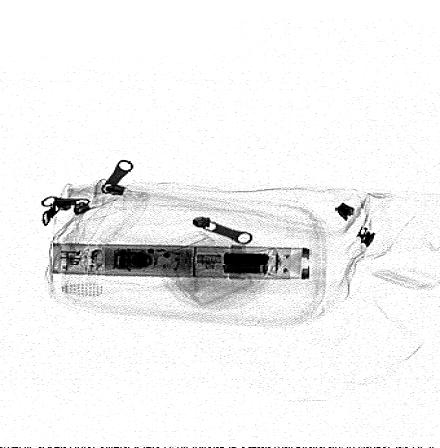Baton: (49, 241, 313, 281)
